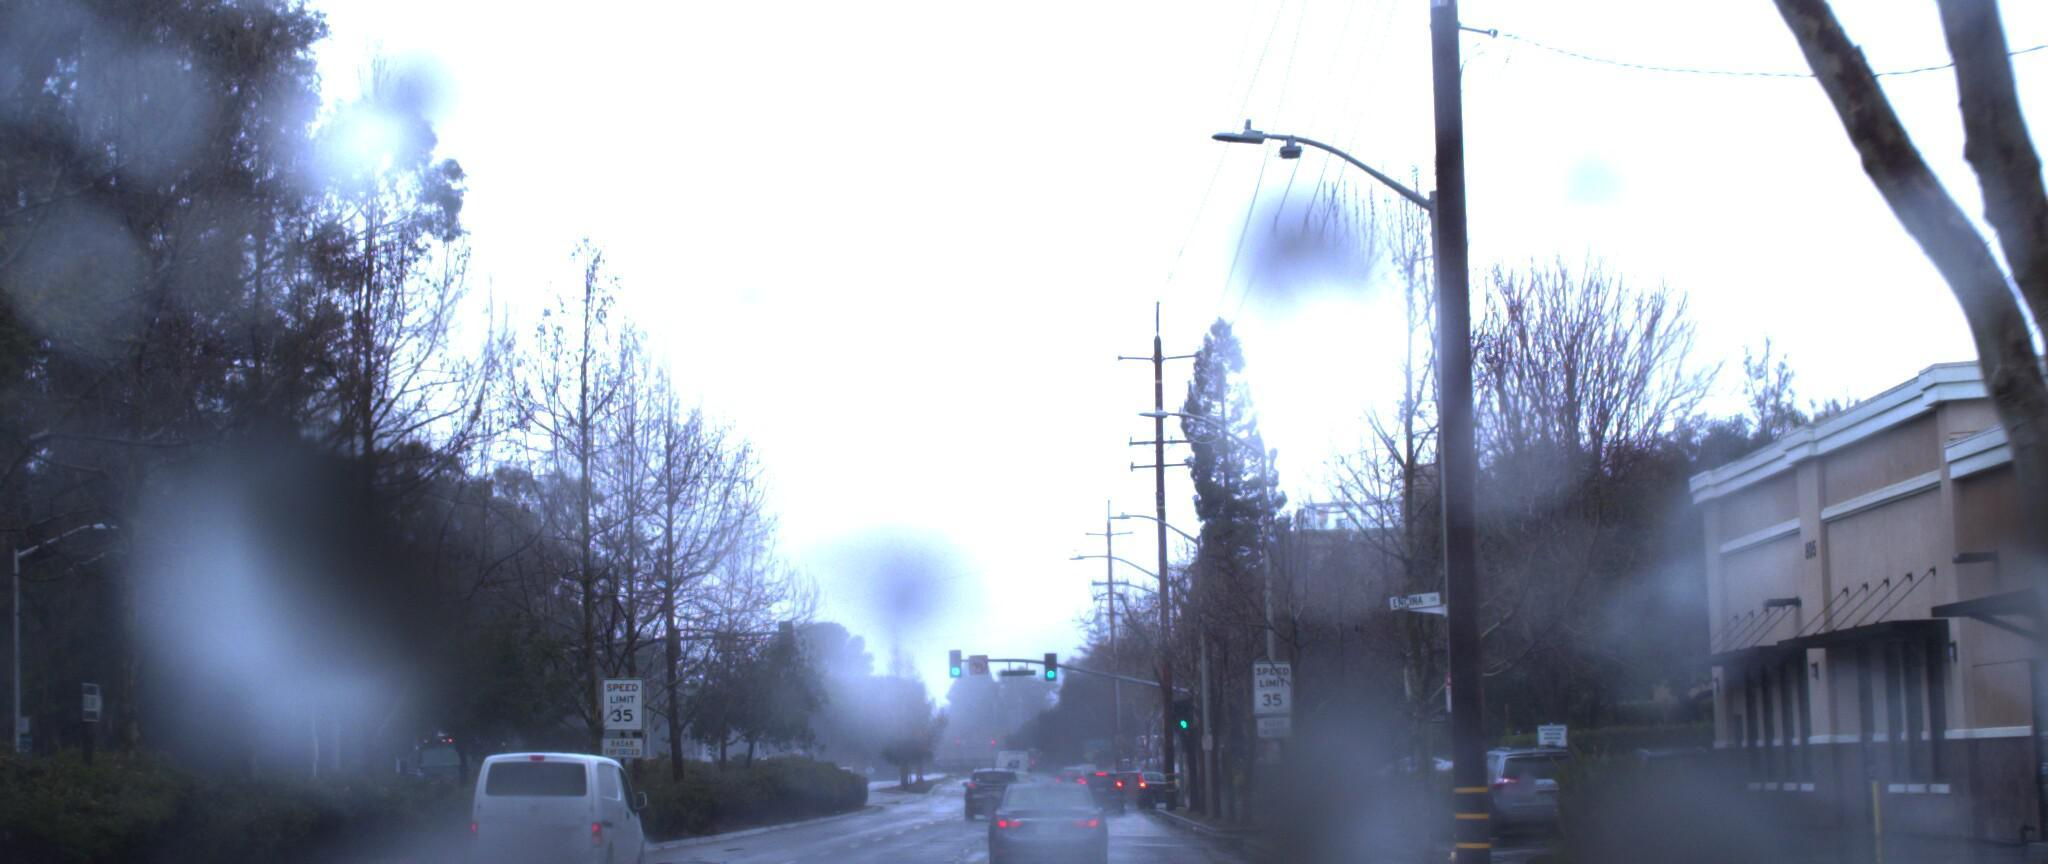car: (455, 727, 647, 864), (1437, 740, 1583, 838), (974, 771, 1102, 864)
